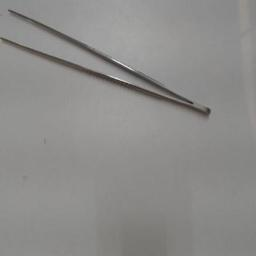DeBakey Dissector: (1, 4, 219, 132)
